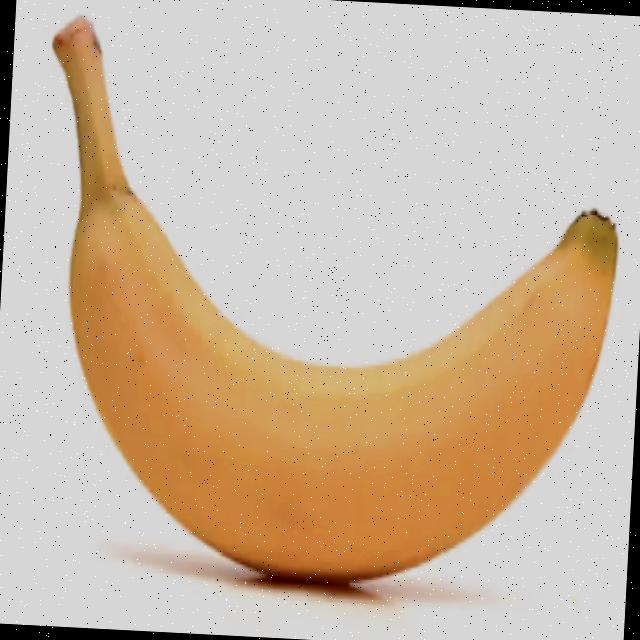Ripe: (13, 0, 635, 610)
